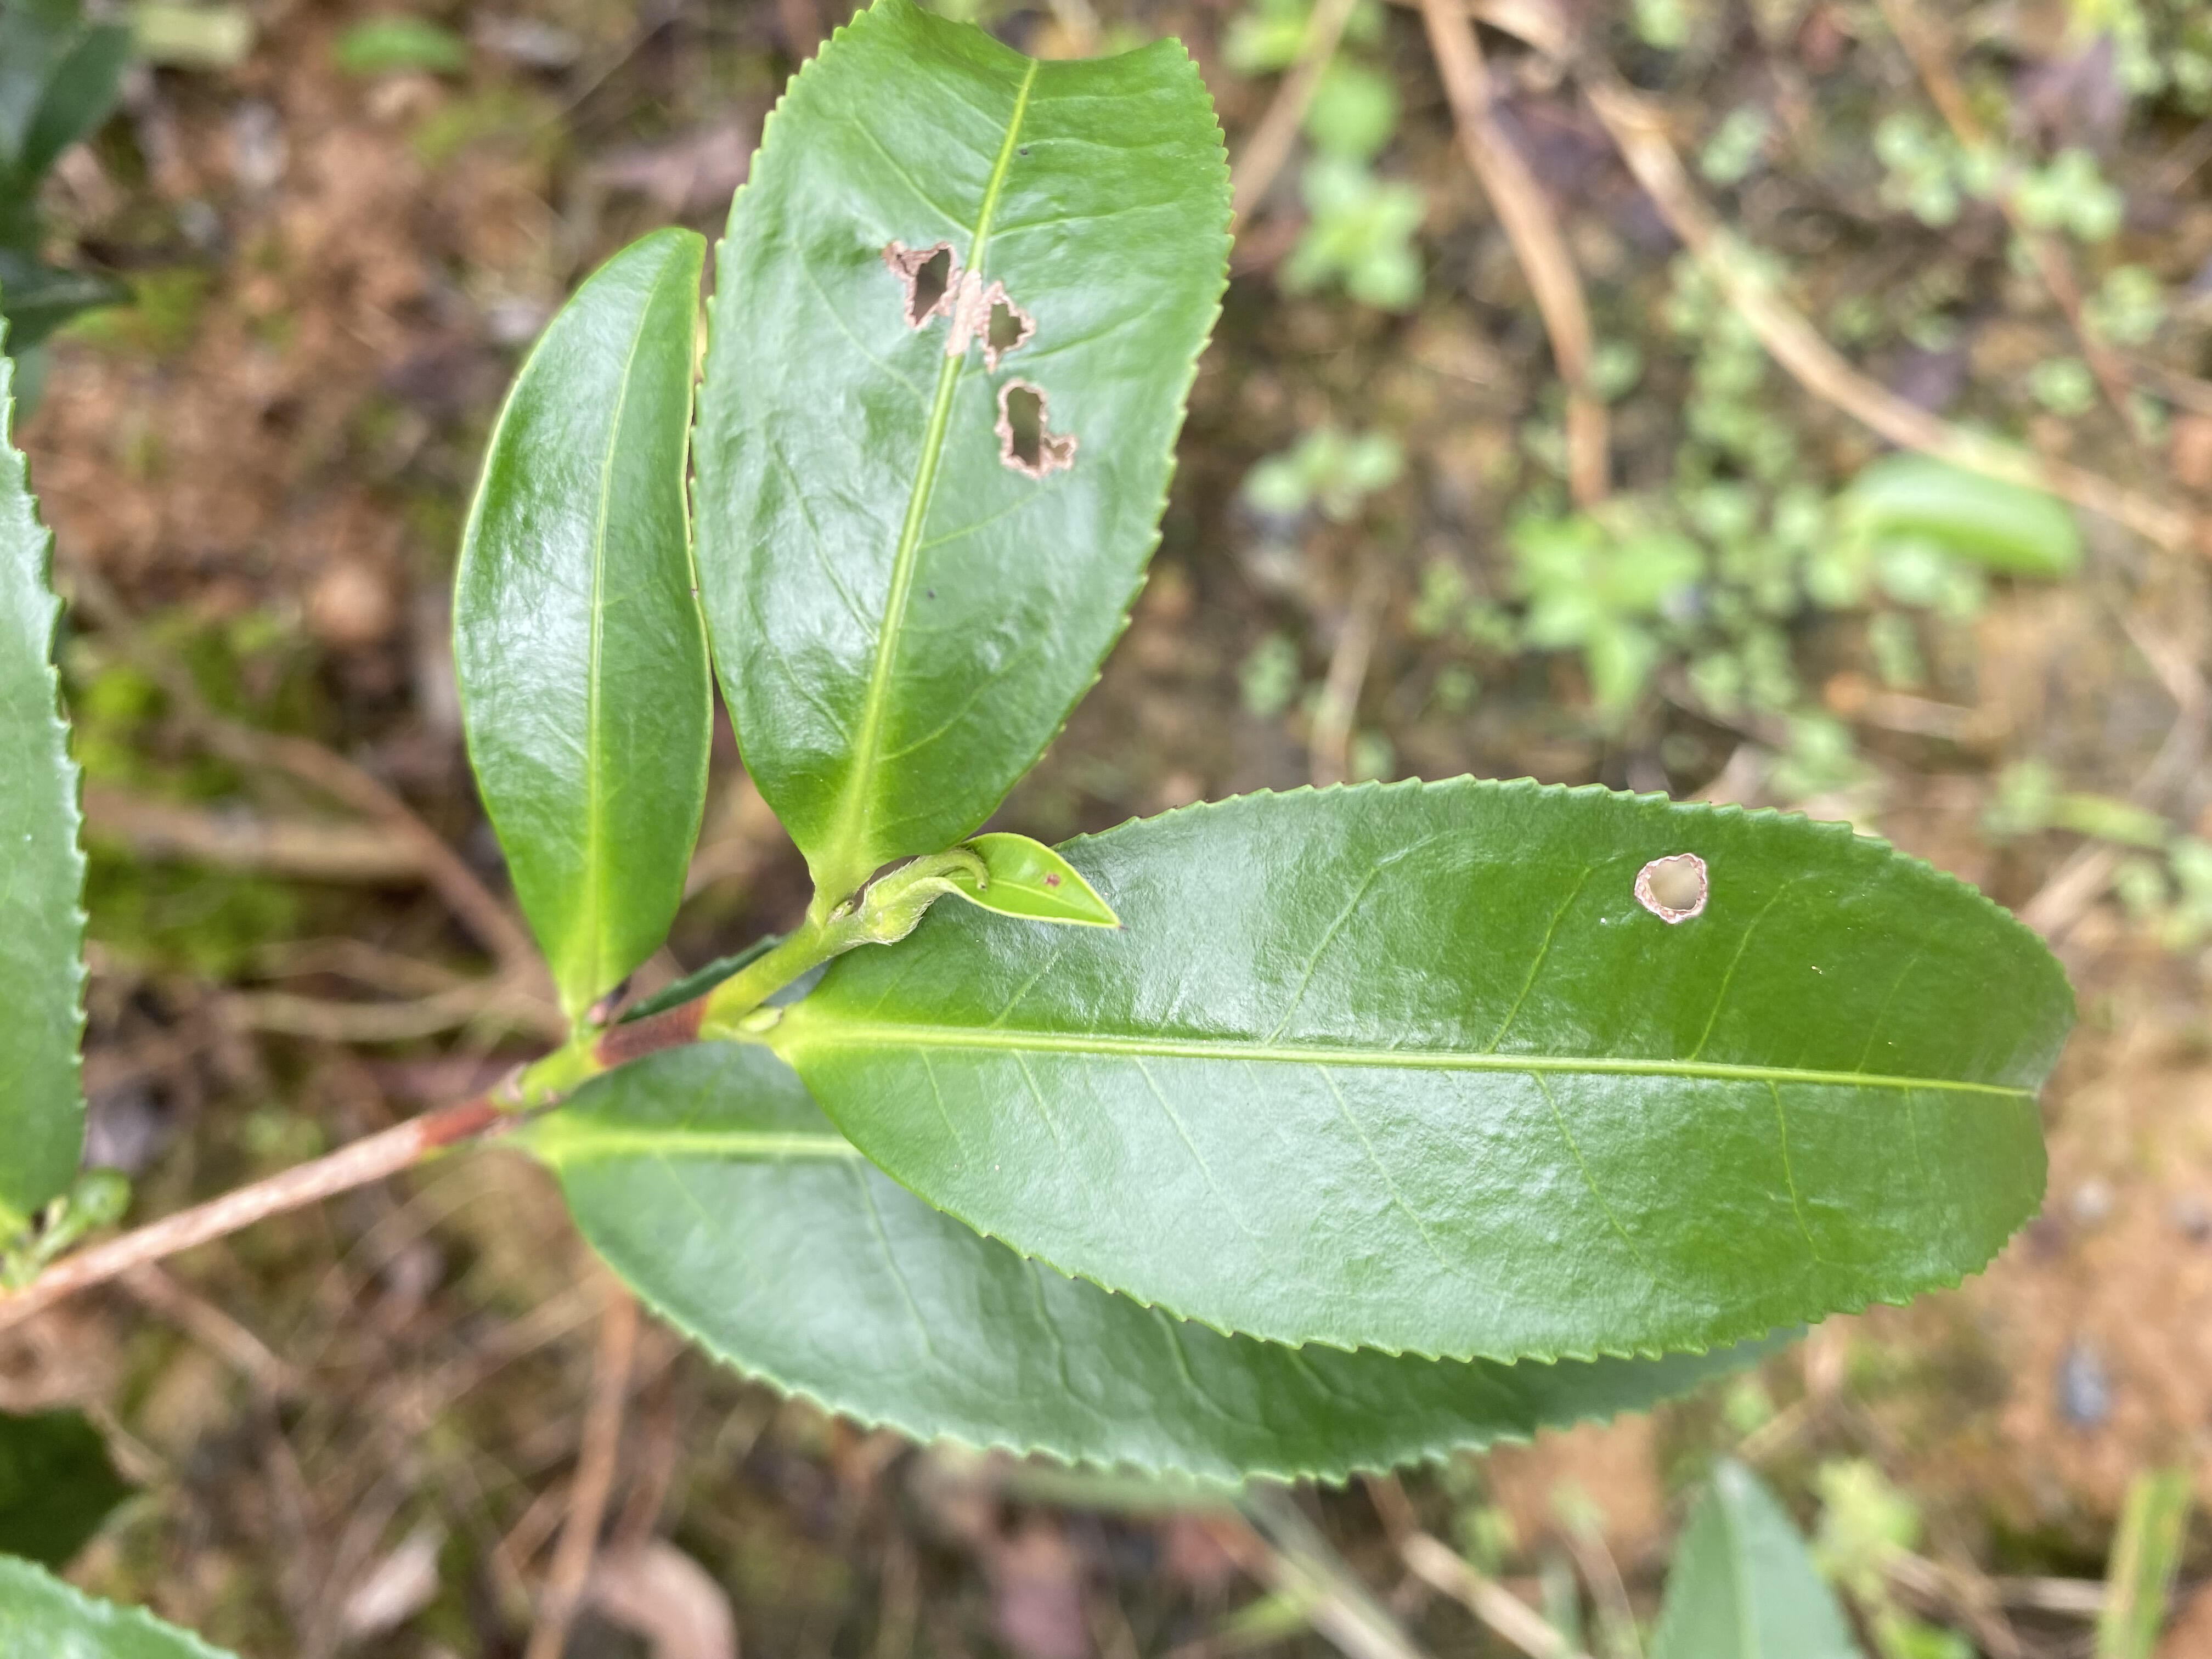chihuo_high: (693, 2, 1237, 904)
chihuo_low: (779, 774, 2081, 1368)
healthy: (449, 227, 714, 1006)
